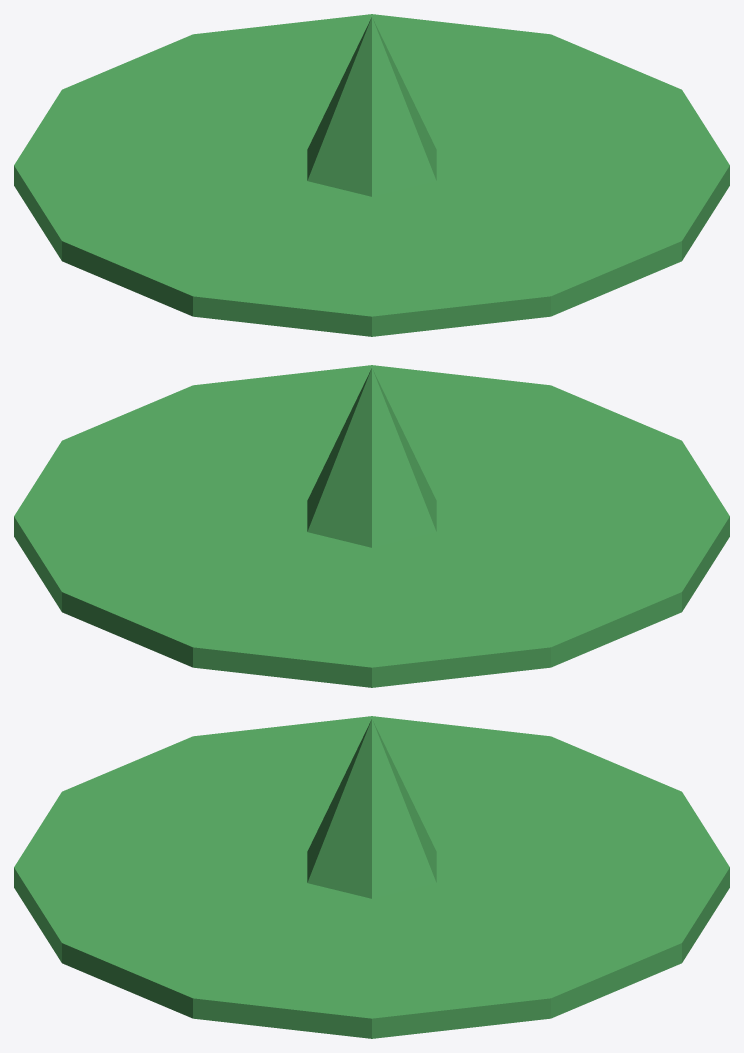
File: bloodstain.obj
3 renders of one model, top to bottom at view 1: azimuth 30°, elevation 25°; view 2: azimuth 150°, elevation 25°; view 3: azimuth 270°, elevation 25°, orthographic.
Parts seen in each view (by area): view 1: bloodstain; view 2: bloodstain; view 3: bloodstain.
Part boxes in pixels (left/top/right/bottom): bloodstain: left=14, top=14, right=729, bottom=336; bloodstain: left=14, top=365, right=729, bottom=687; bloodstain: left=14, top=716, right=729, bottom=1038.
Size of the model in its own units: 0.96 by 0.25 by 0.96.
